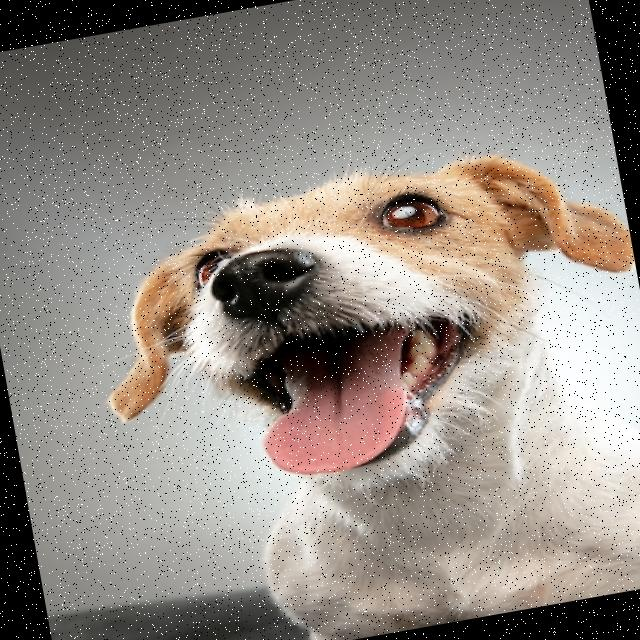Dog: (78, 130, 640, 640)
